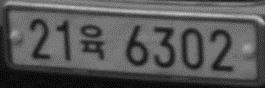0: (179, 26, 205, 70)
1: (52, 18, 75, 63)
2: (207, 27, 235, 73), (28, 16, 52, 60)
3: (152, 25, 176, 68)
6: (124, 24, 149, 66)
육: (78, 22, 106, 60)
